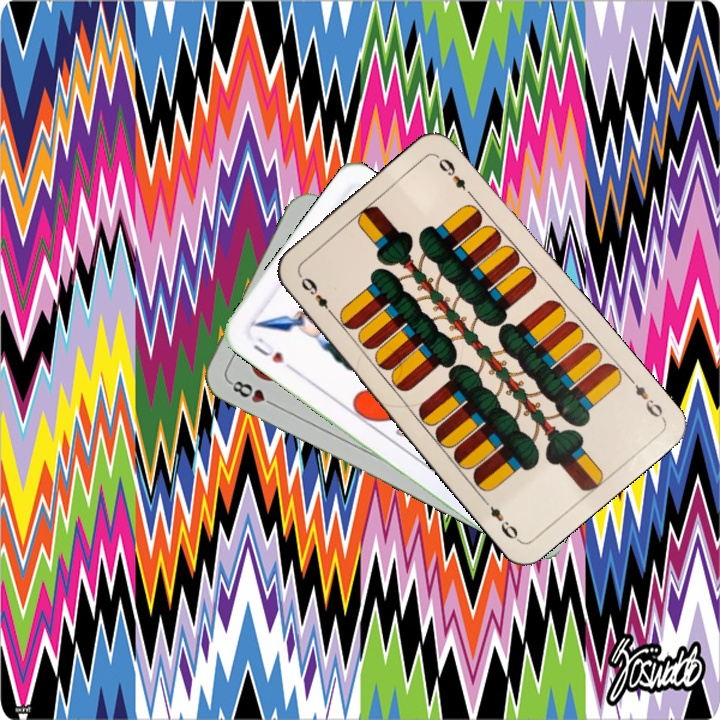E9: (294, 271, 338, 320), (624, 373, 667, 422)
H8: (225, 376, 280, 410)
HU: (249, 333, 287, 366)
